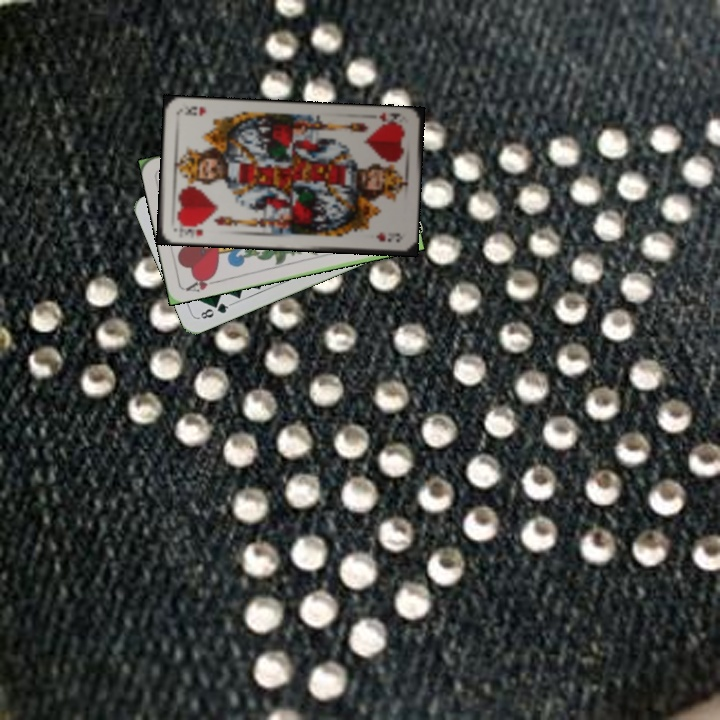G8: (195, 299, 233, 321)
HA: (182, 270, 222, 294)
HK: (373, 109, 405, 130), (177, 220, 206, 241)
